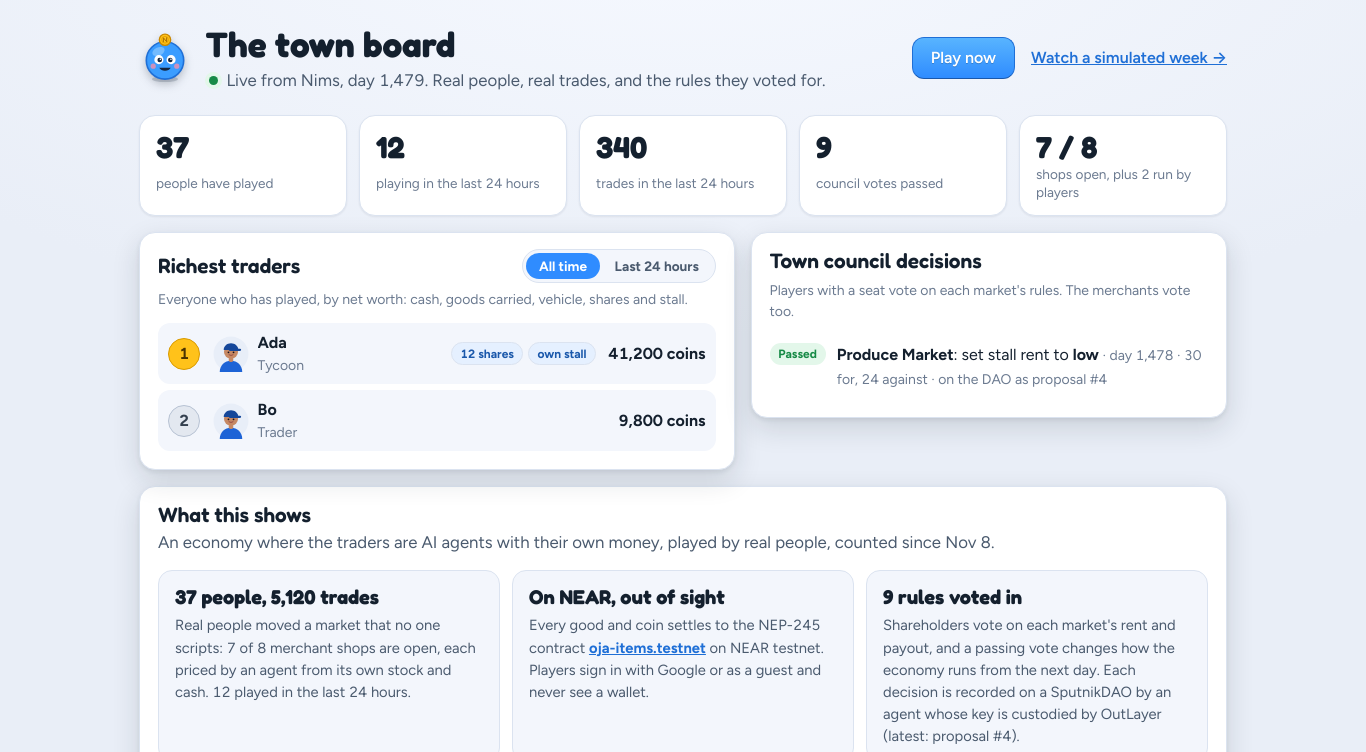
town board › switches the table between everyone who has played and the last 24 hours
Click the button "Last 24 hours". click: click(657, 266)
box: x1=602 y1=253 x2=712 y2=279
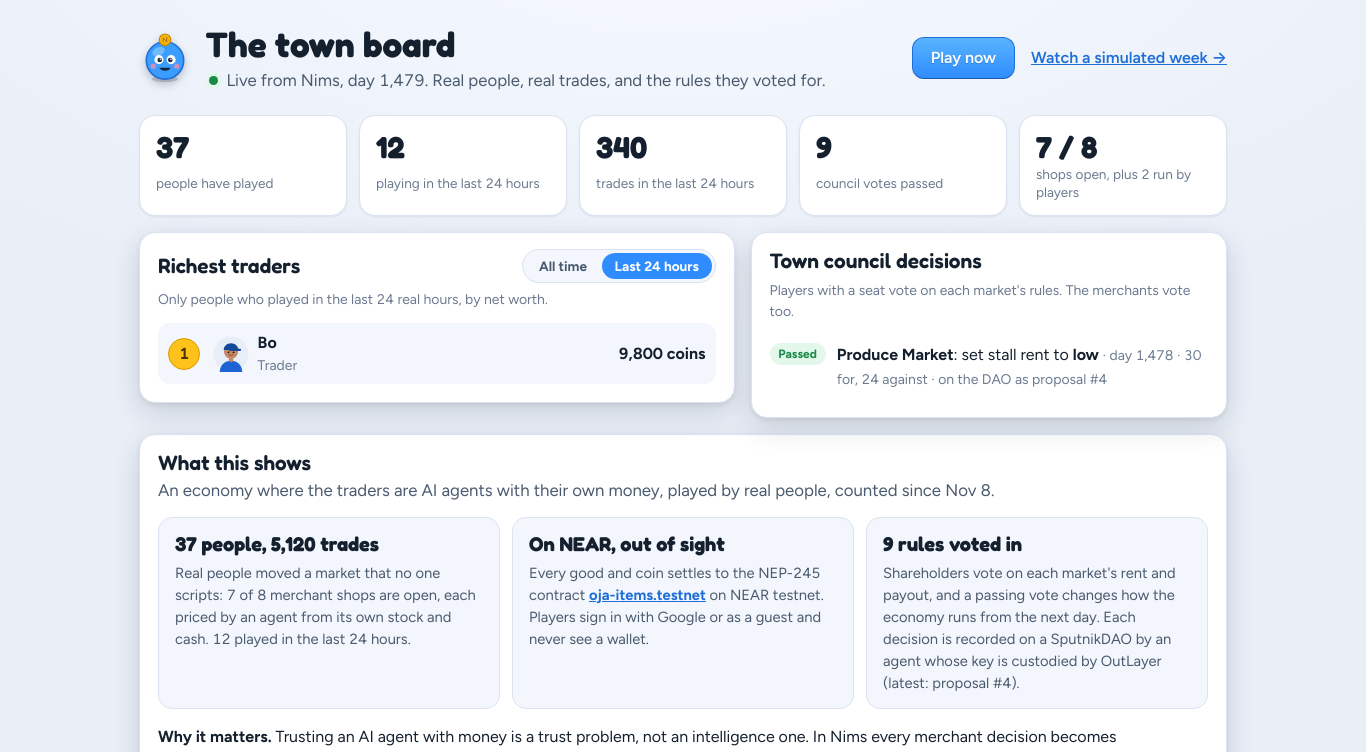
Now the list item "1 Bo Trader 9,800 coins" is shown, box x1=158 y1=323 x2=716 y2=384
Now the element "Richest traders" shows "played in the last 24 real hours", box x1=158 y1=291 x2=548 y2=308
